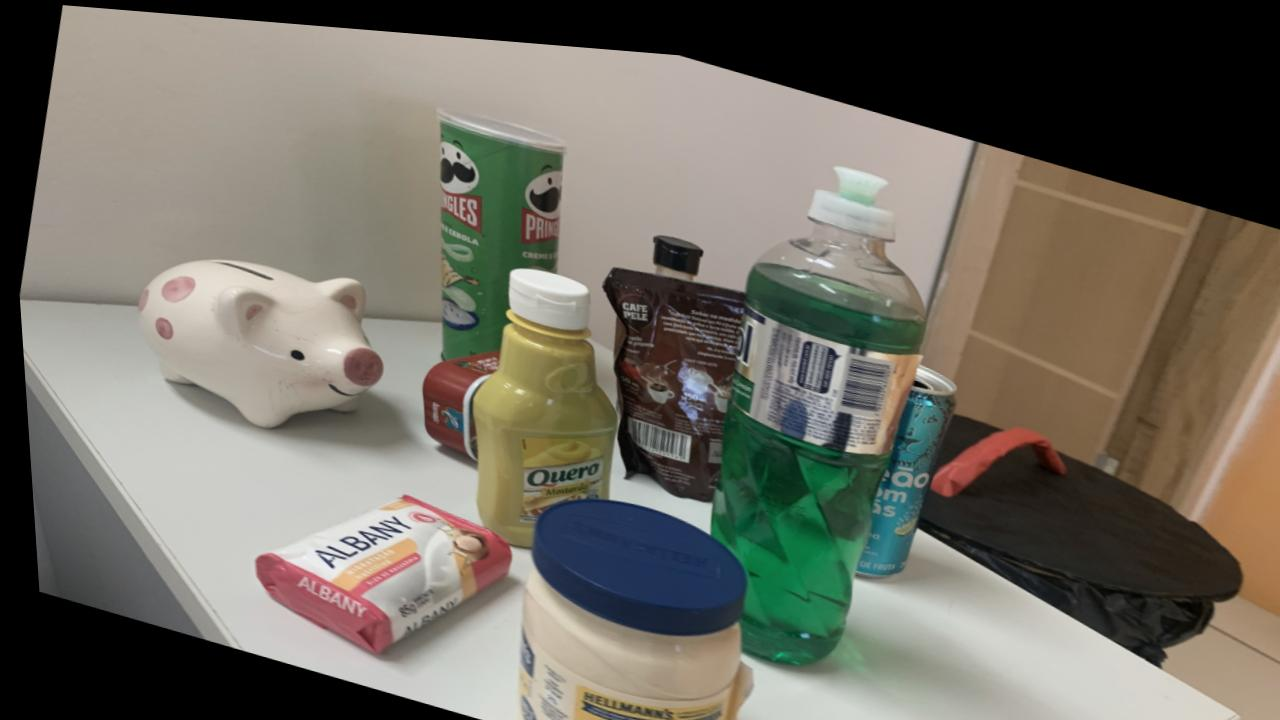Coffee-Pantry_Items: (599, 258, 742, 490)
Detergent-Cleanup_Items: (704, 153, 922, 652), (435, 101, 565, 352)
English_Sauce-Pantry_Items: (649, 224, 701, 270)
Mayonnaise-Pantry_Items: (508, 489, 744, 720)
Mustard-Pantry_Items: (466, 259, 612, 538)
Pig_Safe-Miscellaneous: (134, 256, 379, 424)
Soap-Cleanup_Items: (247, 488, 504, 647)
Tea-Drinks: (848, 351, 951, 564)
Tuna_Can-Pantry_Items: (416, 342, 495, 453)
